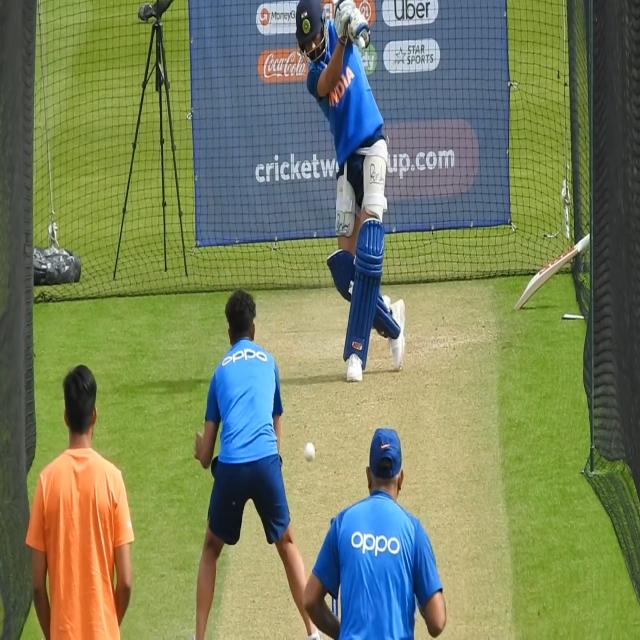Cricket ball: (303, 437, 317, 467)
